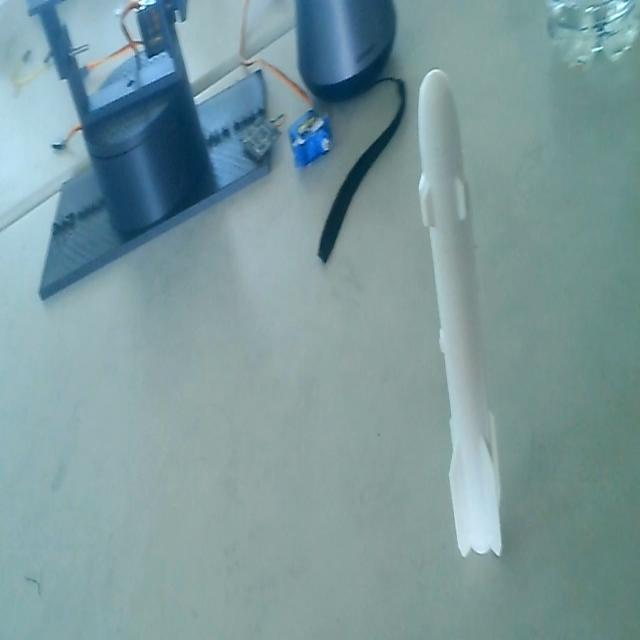Rocket: (414, 62, 504, 562)
